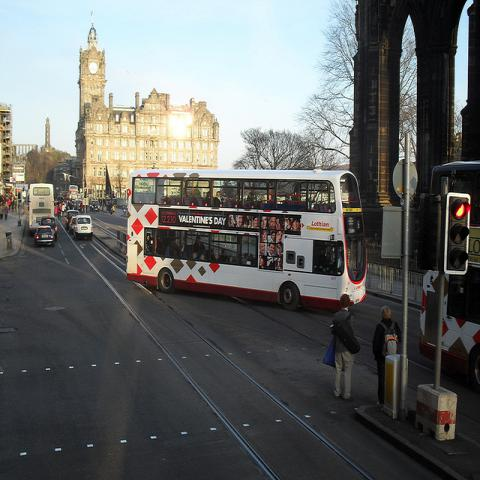bus: (126, 169, 367, 307), (422, 159, 480, 393), (27, 183, 55, 233)
car: (73, 214, 93, 240), (34, 226, 55, 249), (40, 215, 58, 241), (64, 210, 80, 227), (68, 216, 77, 232), (90, 200, 100, 211)
